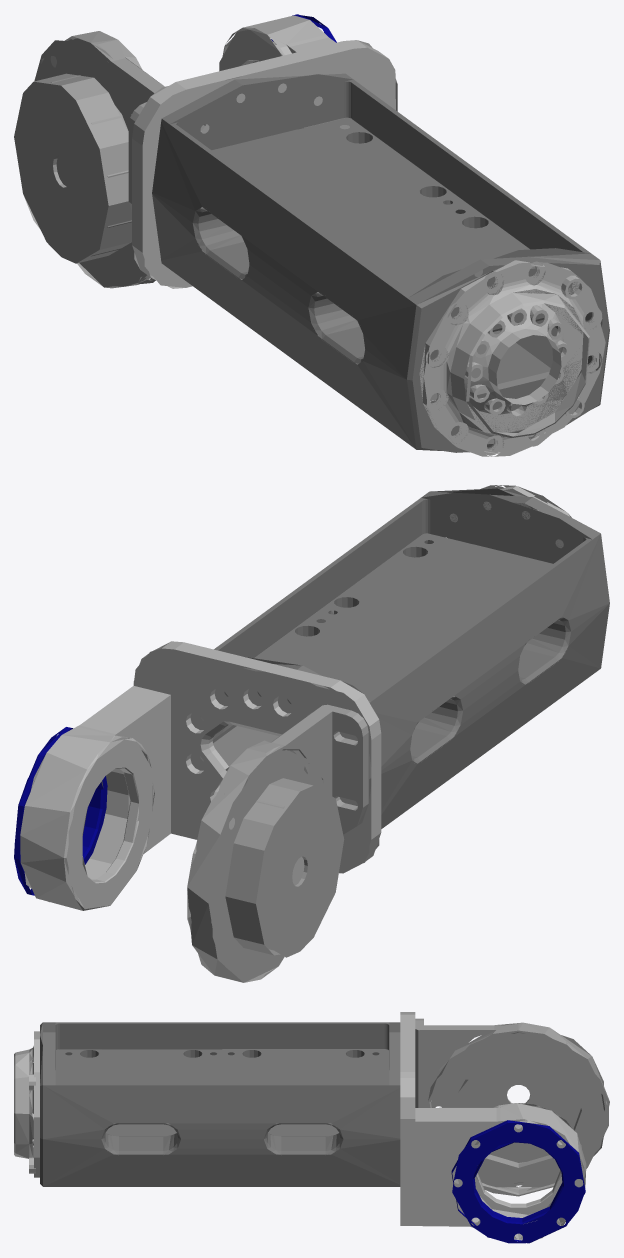
File: ArmL_Sho4_joint_visu.dae
3 views of the same model, one above another, from view 1: azimuth 30°, elevation 25°; view 2: azimuth 150°, elevation 25°; view 3: azimuth 270°, elevation 25° (orthographic). The views are drawn at different scales.
Parts seen in each view (by area): view 1: Visualization_ALDof4; view 2: Visualization_ALDof4; view 3: Visualization_ALDof4.
Part boxes in pixels (box(x1,y1,x2,y2)): Visualization_ALDof4: box(14, 14, 609, 456); Visualization_ALDof4: box(14, 485, 609, 982); Visualization_ALDof4: box(14, 1012, 609, 1243).
Size of the model in its own units: 0.072 by 0.2019 by 0.066.
